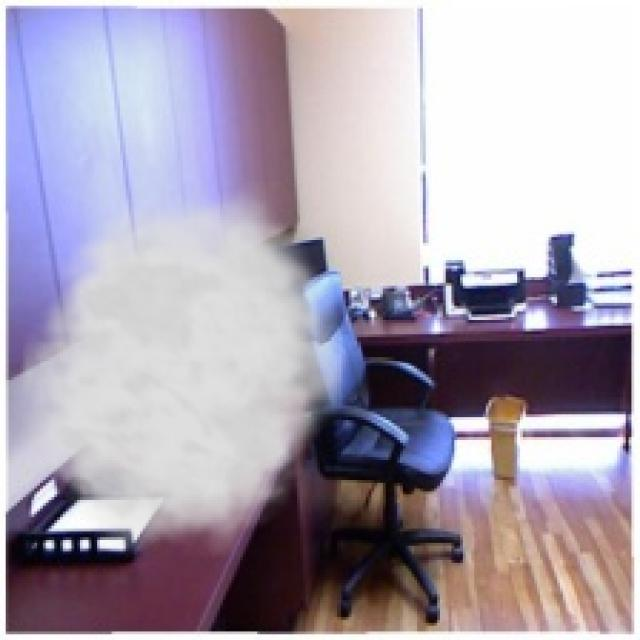smoke: (3, 180, 357, 557)
